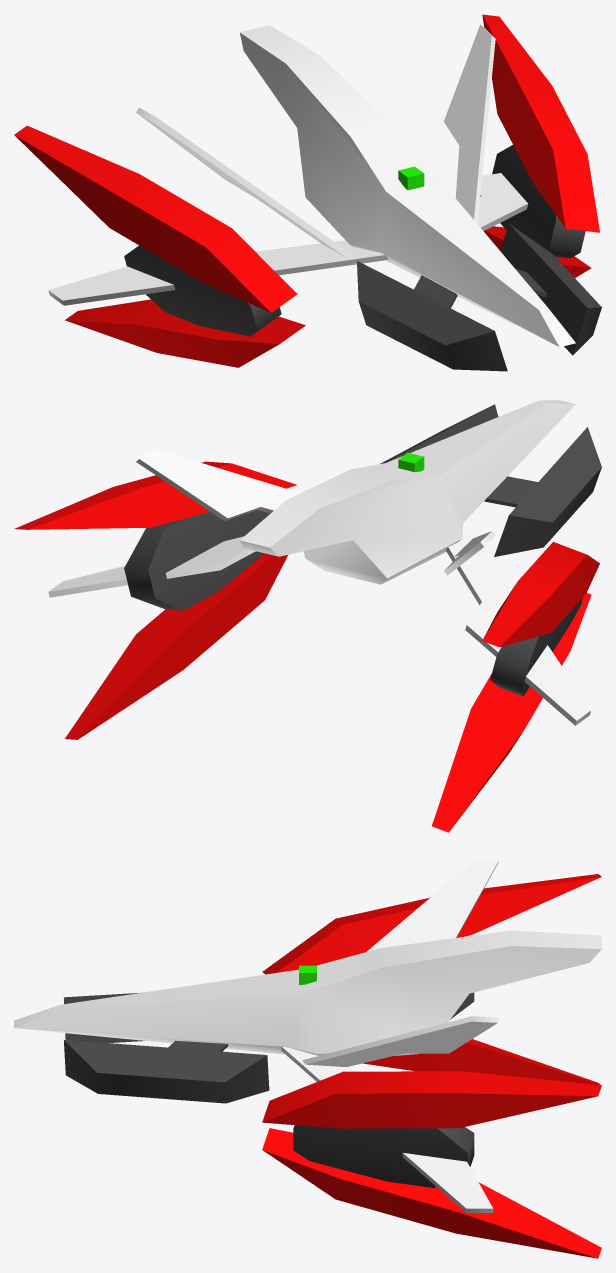
Rendered from fighter.fbx.
3 renders of one model, top to bottom at view 1: azimuth 30°, elevation 25°; view 2: azimuth 150°, elevation 25°; view 3: azimuth 270°, elevation 25°, orthographic. The views are drawn at different scales.
Parts seen in each view (by area): view 1: fighter; view 2: fighter; view 3: fighter.
Boxes of the visible parts, left/top/right/bottom form: fighter: left=14, top=14, right=601, bottom=371; fighter: left=14, top=400, right=601, bottom=832; fighter: left=14, top=861, right=601, bottom=1258.
Size of the model in its own units: 192 by 86.04 by 197.
